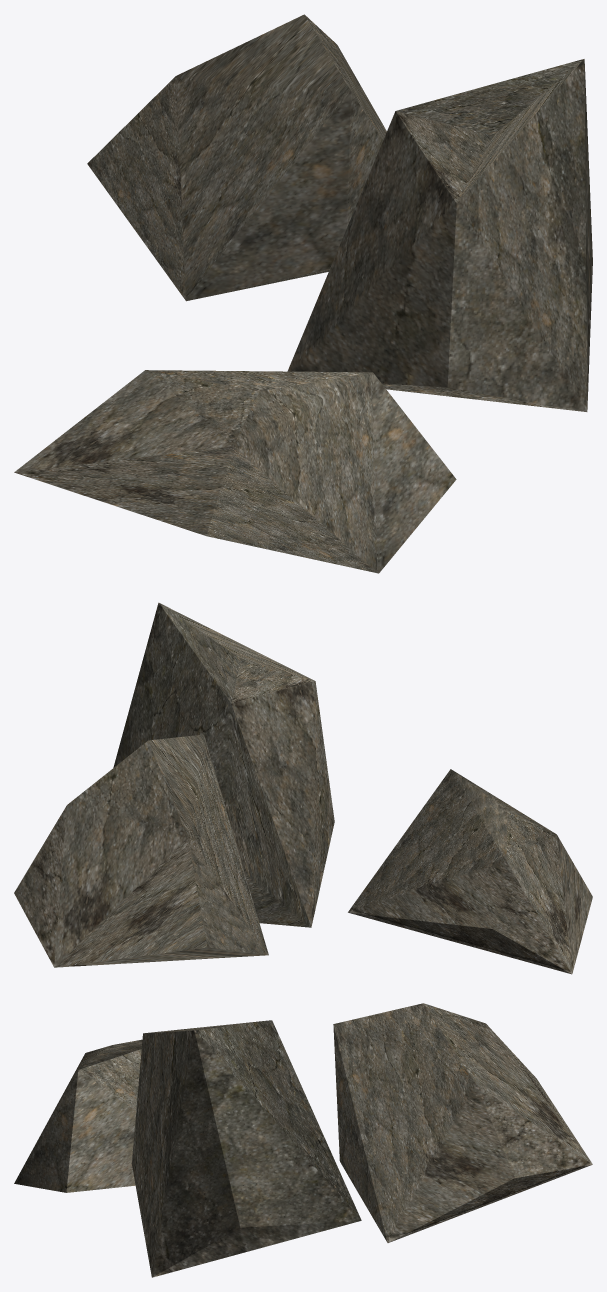
The model's file is mm9_deco_stonedebris01lsp350.glb.
3 views of the same model, one above another, from view 1: azimuth 30°, elevation 25°; view 2: azimuth 150°, elevation 25°; view 3: azimuth 270°, elevation 25° (orthographic). The views are drawn at different scales.
Visible parts, largest first — view 1: Stonedebris01lsp350; view 2: Stonedebris01lsp350; view 3: Stonedebris01lsp350.
Part boxes in pixels (x1=…): Stonedebris01lsp350: x1=14, y1=14, x2=592, y2=573; Stonedebris01lsp350: x1=14, y1=602, x2=592, y2=974; Stonedebris01lsp350: x1=14, y1=1003, x2=592, y2=1277.
Size of the model in its own units: 1.38 by 0.8048 by 1.53.
1 material, 1 textured.
